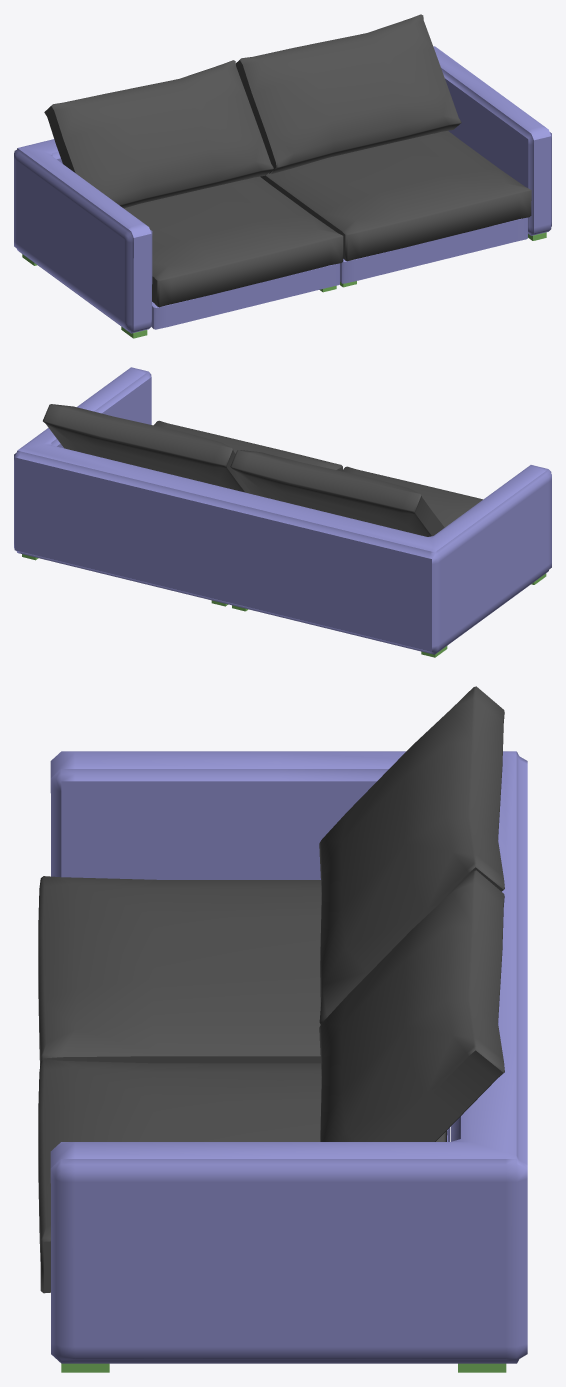
Rendered from CDTS867.FBX.
The picture shows the model from 3 angles, top to bottom: view 1: azimuth 30°, elevation 25°; view 2: azimuth 150°, elevation 25°; view 3: azimuth 270°, elevation 25°; orthographic projection. The views are drawn at different scales.
Parts seen in each view (by area): view 1: CDTS867; view 2: CDTS867; view 3: CDTS867.
Boxes of the visible parts, <box> form: CDTS867: <box>14,14,551,338</box>; CDTS867: <box>14,367,551,657</box>; CDTS867: <box>38,686,527,1372</box>.
Size of the model in its own units: 244 by 122 by 84.
